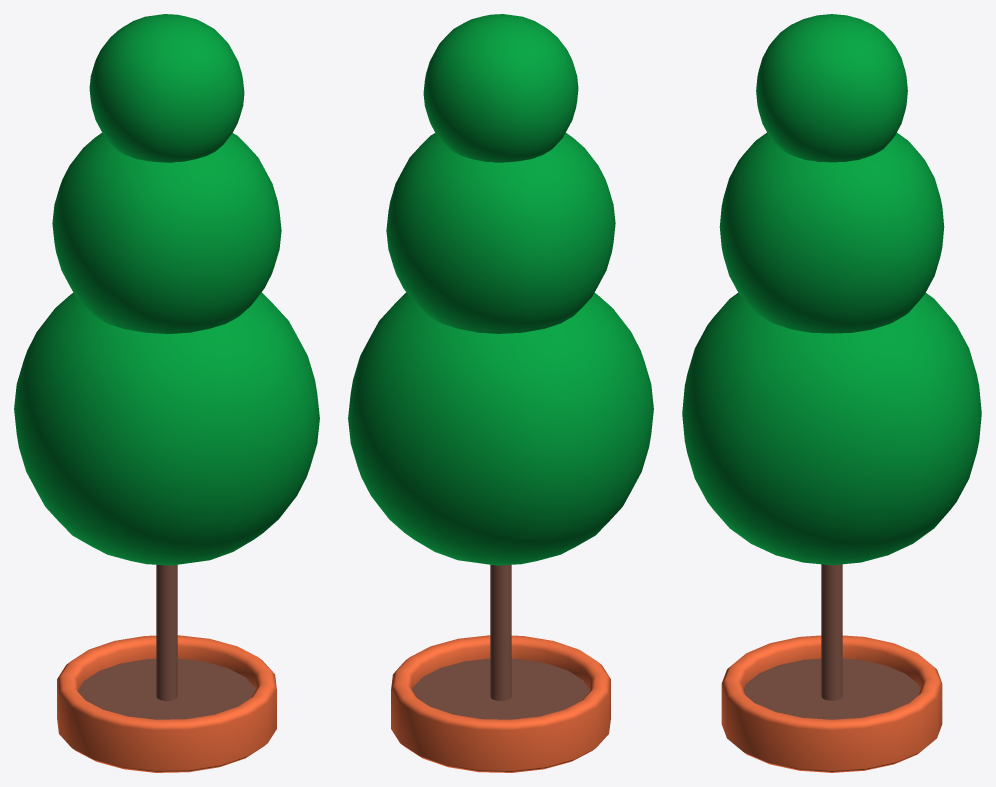
Rendered from Store_2_Tree_3.glb.
3 renders of one model, left to right at view 1: azimuth 30°, elevation 25°; view 2: azimuth 150°, elevation 25°; view 3: azimuth 270°, elevation 25°, orthographic.
Parts seen in each view (by area): view 1: Store_2_Tree_3; view 2: Store_2_Tree_3; view 3: Store_2_Tree_3.
Part boxes in pixels (<box>): Store_2_Tree_3: <box>14,14,319,772</box>; Store_2_Tree_3: <box>348,14,653,772</box>; Store_2_Tree_3: <box>682,14,981,772</box>.
Size of the model in its own units: 1.14 by 2.96 by 1.14.
1 material, 1 textured.
